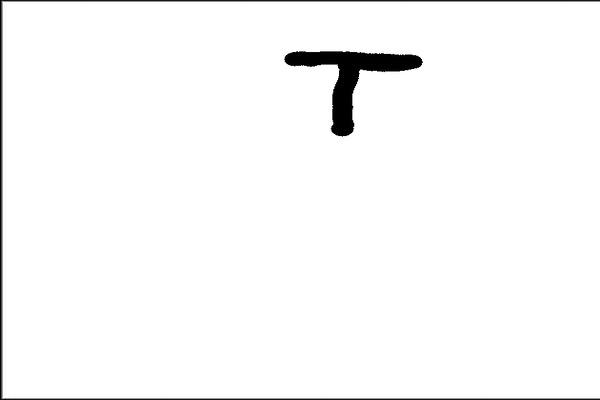T: (283, 38, 441, 142)
